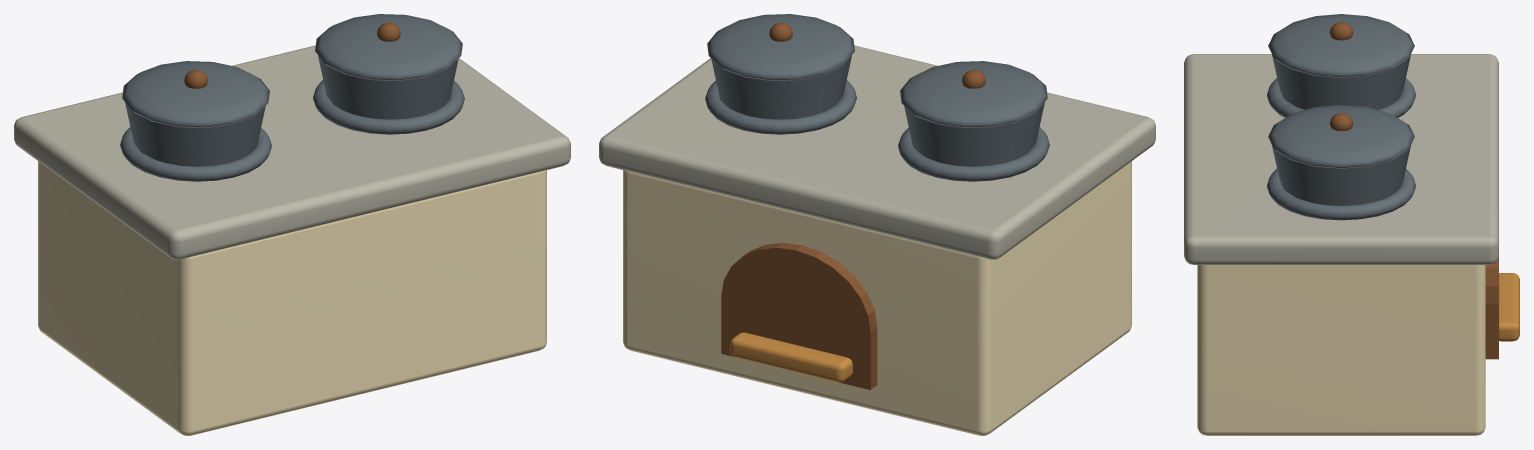
The model's file is stove.fbx.
3 views of the same model, side by side, from view 1: azimuth 30°, elevation 25°; view 2: azimuth 150°, elevation 25°; view 3: azimuth 270°, elevation 25° (orthographic). The views are drawn at different scales.
Parts seen in each view (by area): view 1: stove; view 2: stove; view 3: stove.
Boxes of the visible parts, left/top/right/bottom form: stove: left=14, top=14, right=570, bottom=435; stove: left=599, top=14, right=1155, bottom=435; stove: left=1184, top=14, right=1519, bottom=435.
Size of the model in its own units: 2 by 1.4 by 1.5.
1 material, 1 textured.
